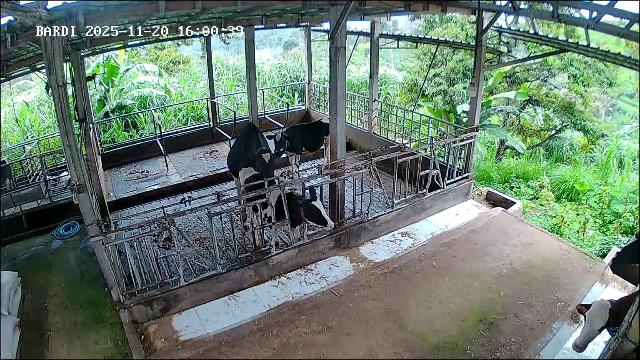mounting: (229, 121, 289, 230)
